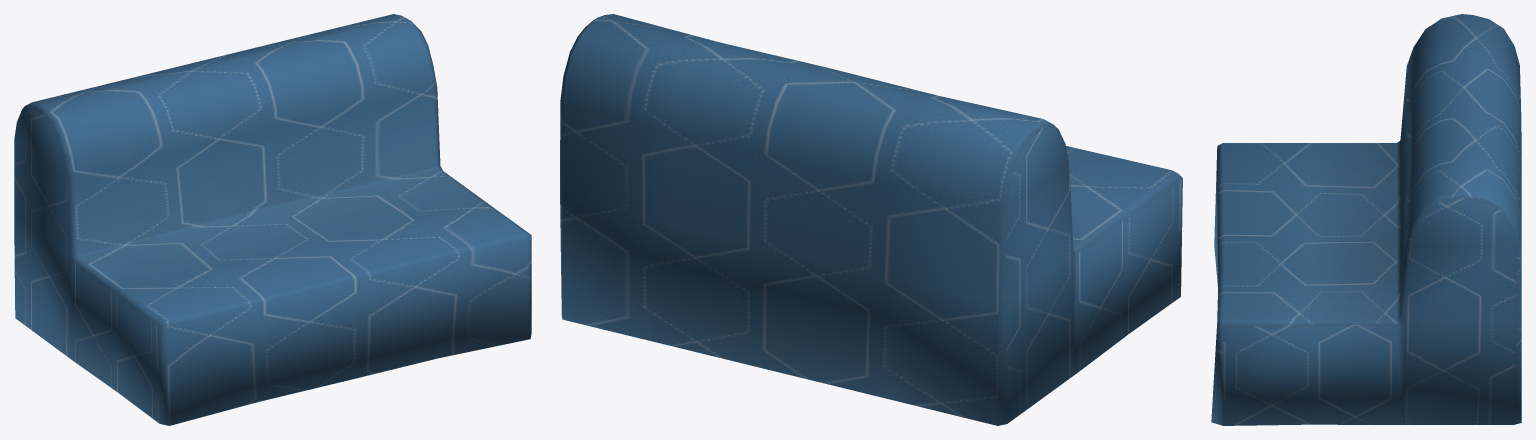
Rendered from convertible-sofa-BZ-closed.glb.
The picture shows the model from 3 angles, left to right: view 1: azimuth 30°, elevation 25°; view 2: azimuth 150°, elevation 25°; view 3: azimuth 270°, elevation 25°; orthographic projection. The views are drawn at different scales.
Parts seen in each view (by area): view 1: Node3; view 2: Node3; view 3: Node3.
Part boxes in pixels (box(x1,y1,x2,y2)): Node3: box(14, 14, 531, 425); Node3: box(560, 14, 1182, 425); Node3: box(1211, 14, 1521, 425).
Size of the model in its own units: 143 by 87.35 by 102.
4 materials, 1 textured.
